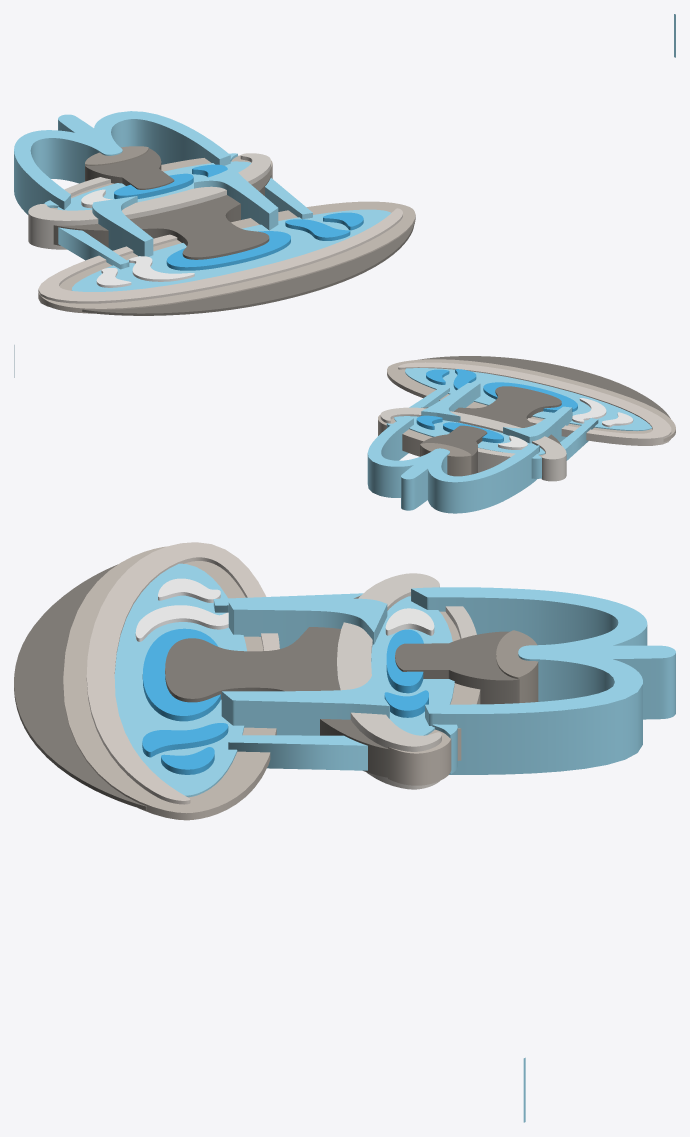
File: emoji_u26f2.glb
The picture shows the model from 3 angles, top to bottom: view 1: azimuth 30°, elevation 25°; view 2: azimuth 150°, elevation 25°; view 3: azimuth 270°, elevation 25°; orthographic projection. The views are drawn at different scales.
Visible parts, largest first — view 1: emoji_u26f2; view 2: emoji_u26f2; view 3: emoji_u26f2.
Boxes of the visible parts, x1,y1,x2,y2 form: emoji_u26f2: (14,14,675,315); emoji_u26f2: (14,345,675,513); emoji_u26f2: (14,542,675,1122).
Bounding box in the file's own units: 0.0649 × 0.0036 × 0.0335.
